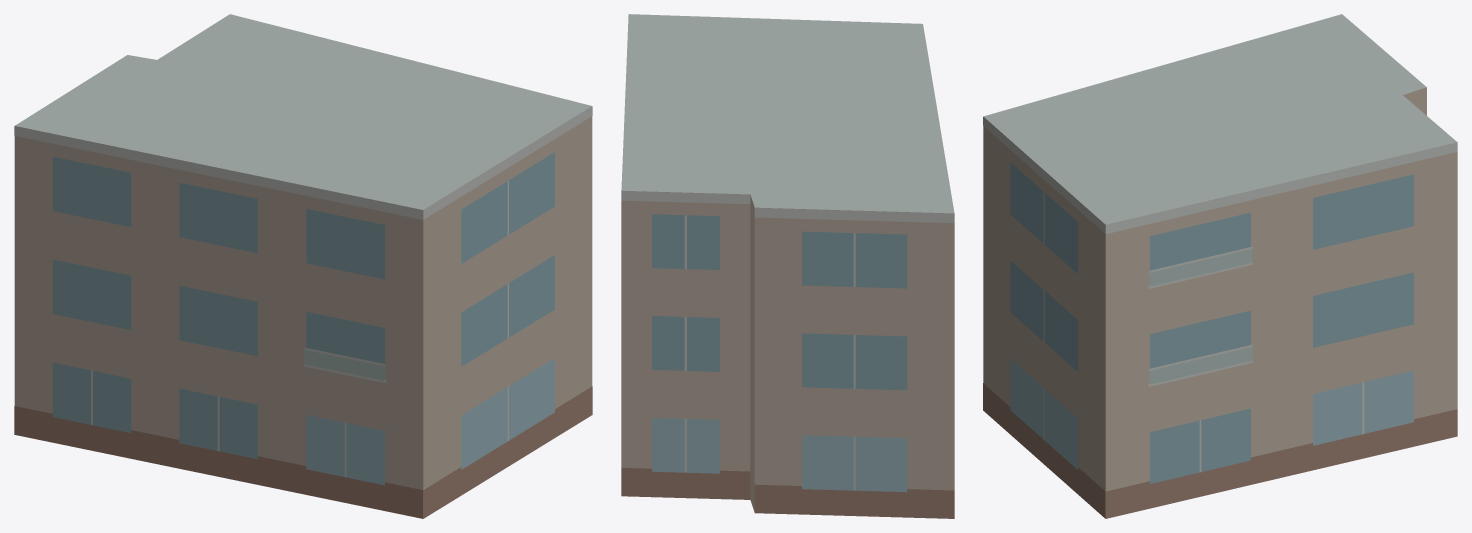
File: survey-upis-32456951.glb
3 renders of one model, left to right at view 1: azimuth 30°, elevation 25°; view 2: azimuth 150°, elevation 25°; view 3: azimuth 270°, elevation 25°, orthographic. The views are drawn at different scales.
Visible parts, largest first — view 1: survey-upis-32456951.tmp; view 2: survey-upis-32456951.tmp; view 3: survey-upis-32456951.tmp.
Boxes of the visible parts, box(x1,y1,x2,y2) form: survey-upis-32456951.tmp: box(14, 14, 592, 518); survey-upis-32456951.tmp: box(621, 14, 954, 518); survey-upis-32456951.tmp: box(983, 14, 1457, 518).
Size of the model in its own units: 11.7 by 7.6 by 11.12.
